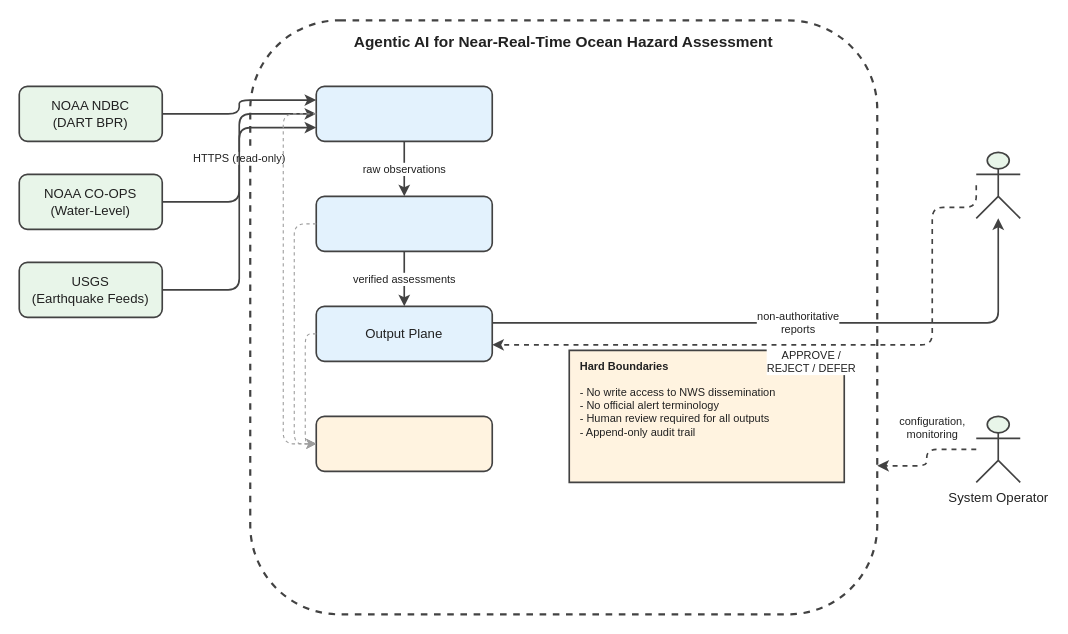
The diagram is 1068 pixels wide and 634 high, and some of its shapes have lost their labels. The shapes that lost their labels are listed below. From the top down, each one's box as (x1, y1, x2, y2) in pixels, then its label:
(315, 85, 493, 142): Data Plane
(975, 151, 1021, 219): Duty Scientist
(315, 195, 493, 252): Processing Plane
(315, 415, 493, 472): Audit Trail (append-only)
